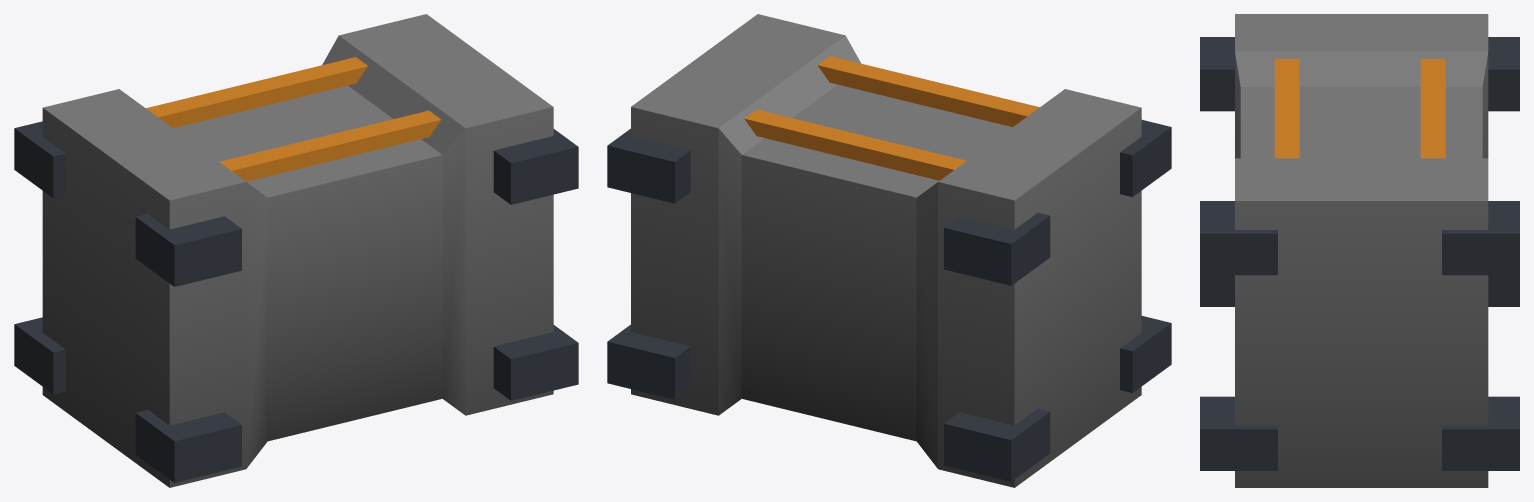
Rendered from fense_2.fbx.
3 views of the same model, side by side, from view 1: azimuth 30°, elevation 25°; view 2: azimuth 150°, elevation 25°; view 3: azimuth 270°, elevation 25° (orthographic).
Parts seen in each view (by area): view 1: fence_exp; view 2: fence_exp; view 3: fence_exp.
Boxes of the visible parts, x1,y1,x2,y2 form: fence_exp: (14,14,578,487); fence_exp: (607,14,1171,487); fence_exp: (1200,14,1519,487).
Bounding box in the file's own units: 2.13 × 1.45 × 1.46.
